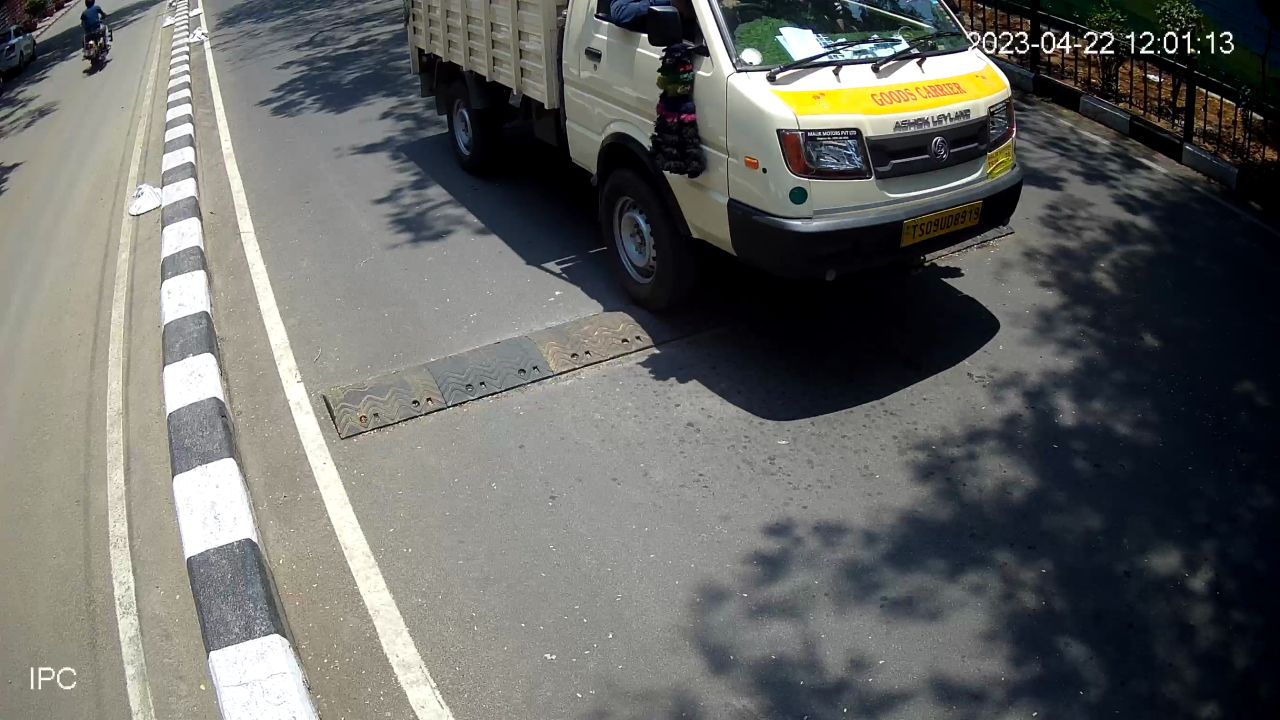license_plate: (895, 194, 987, 248)
